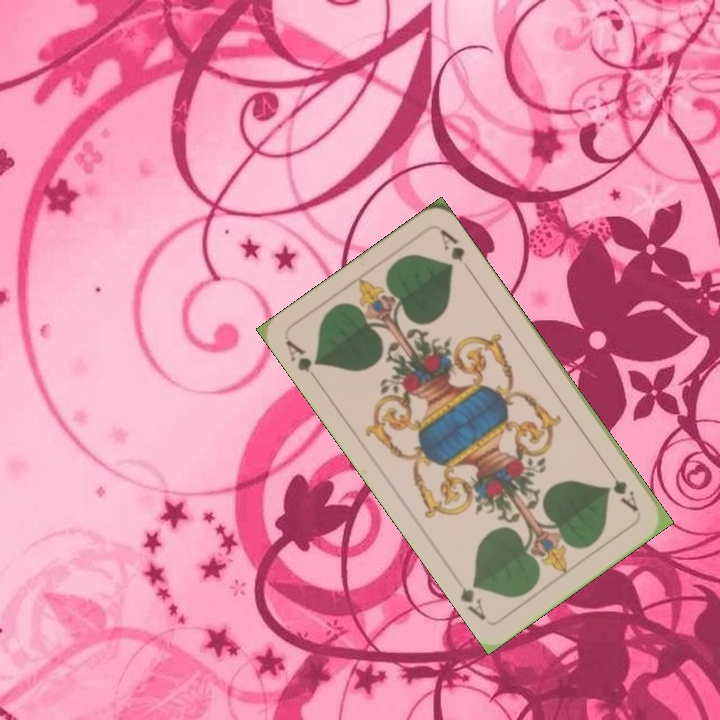GA: (605, 464, 641, 515), (281, 336, 322, 375)
